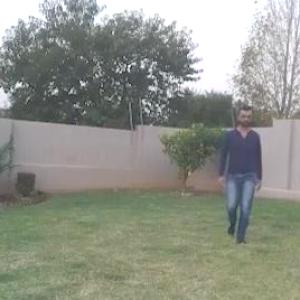follow: (218, 104, 263, 244)
